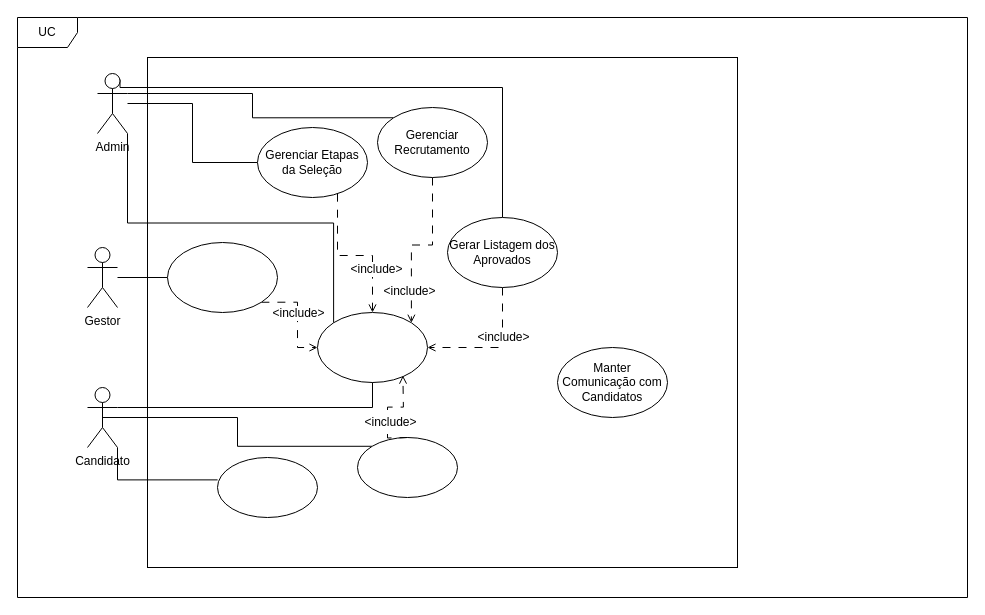
Some shapes in this 985 by 615 pixel diagram are drawn without their labels. The centre of each missing label's shape, as x and y in pixels:
"Autenticar no Sistema" goes at (372,347).
"Criar Conta" goes at (267,487).
"Gerenciar Informações da Vaga" goes at (222,277).
"Realizar Candidaturas" goes at (407,467).
